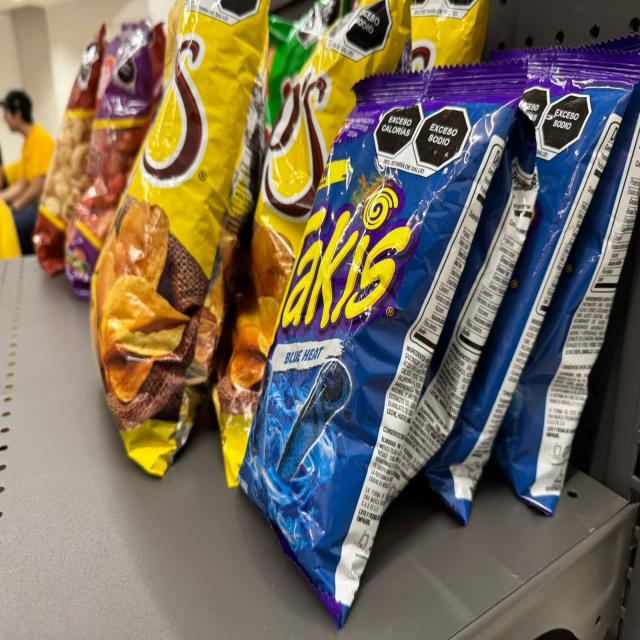Chicharron de Cerdo Natural Bitz 120 gr: (20, 18, 110, 270)
Papas Chips Barcel 170 gr bolsa con sal: (188, 0, 414, 480), (89, 7, 277, 484), (408, 0, 485, 72)
RUFFLES QUESO 185GR: (255, 4, 327, 132)
chicharrones de cerdo intenso: (62, 7, 165, 298)
